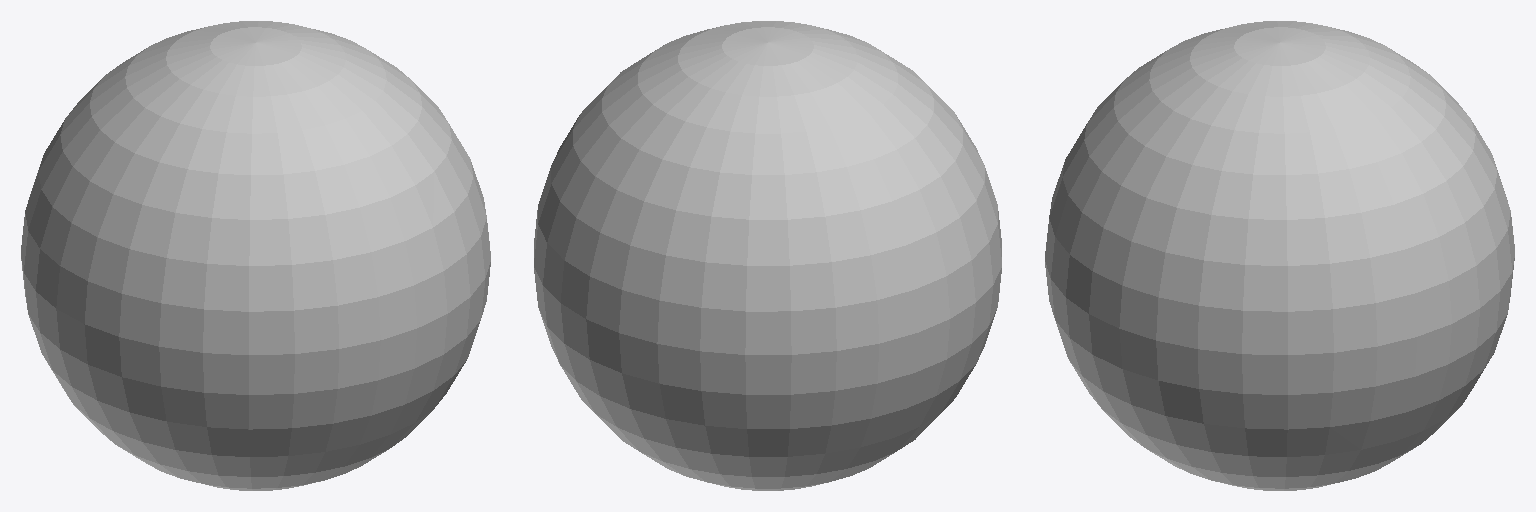
Rendered from Player.obj.
3 views of the same model, side by side, from view 1: azimuth 30°, elevation 25°; view 2: azimuth 150°, elevation 25°; view 3: azimuth 270°, elevation 25° (orthographic).
Visible parts, largest first — view 1: 球; view 2: 球; view 3: 球.
Part boxes in pixels (bbox=[...]): 球: bbox=[21, 21, 490, 490]; 球: bbox=[534, 21, 1001, 490]; 球: bbox=[1045, 21, 1514, 490].
Bounding box in the file's own units: 0.9994 × 1 × 0.9994.